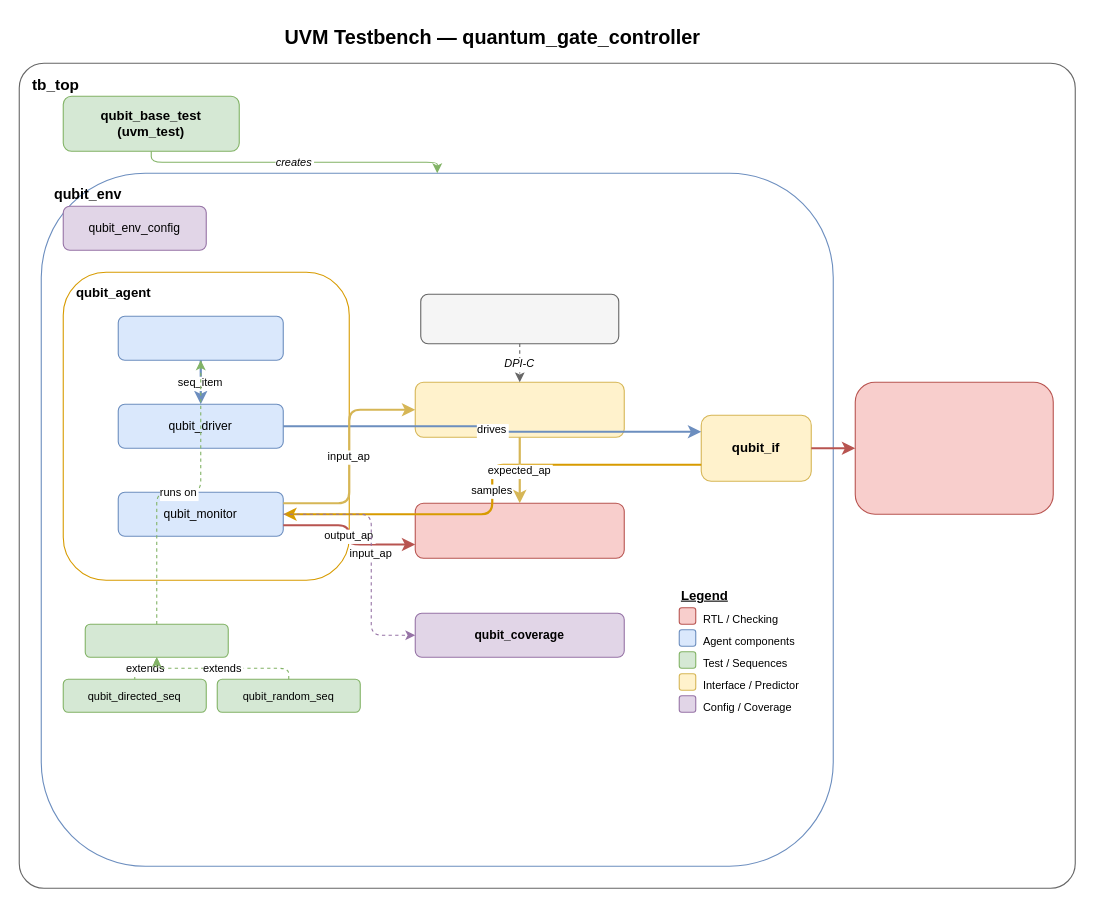
Some shapes in this 1095 by 908 pixel diagram are drawn without their labels. Each missing label, with the centre of its shape:
"quantum_gate_controller (DUT) quantum_gates (combinational)" goes at pixel 953 447.
"qubit_base_seq" goes at pixel 156 640.
"qubit_predictor (DPI-C → C++ ref model)" goes at pixel 519 409.
"qubit_scoreboard (double→Q conv + compare)" goes at pixel 519 530.
"qubit_sequencer" goes at pixel 200 337.
"ref_model_quantum_gates.cpp (pure double math)" goes at pixel 519 318.
